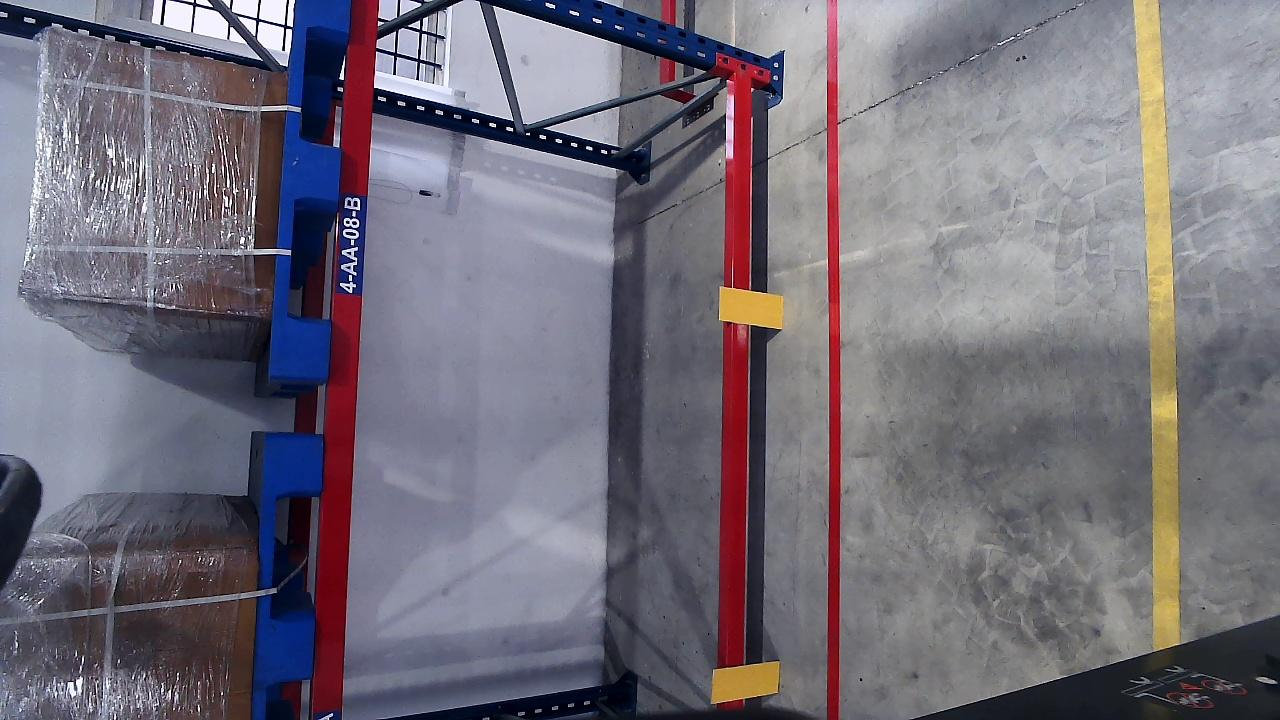h_rack: (335, 1, 377, 686), (725, 75, 759, 637)
orange_strip: (711, 660, 780, 702), (719, 287, 784, 329)
red_line: (822, 0, 844, 713)
small_pallet: (272, 0, 350, 379), (252, 441, 324, 720)
yellow_line: (1135, 0, 1181, 600)
